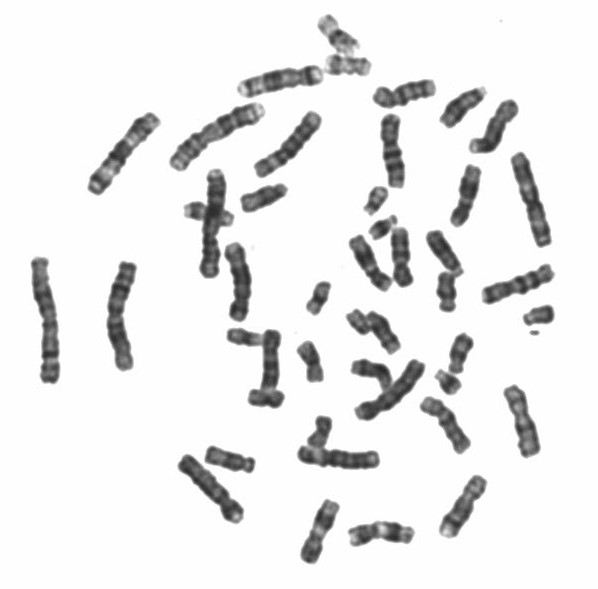chromosomes: (78, 104, 164, 205), (170, 94, 272, 173), (21, 248, 72, 393), (247, 102, 331, 186), (169, 448, 251, 533), (93, 253, 144, 379), (352, 353, 429, 424), (509, 148, 559, 255), (436, 466, 495, 546), (474, 258, 562, 311), (228, 58, 327, 104), (292, 494, 348, 570), (192, 163, 228, 280), (499, 380, 548, 463), (465, 96, 527, 160), (418, 393, 474, 460), (340, 227, 394, 296), (219, 236, 257, 330), (341, 516, 423, 556), (367, 72, 444, 114), (444, 161, 490, 230), (309, 8, 366, 62), (378, 110, 411, 194), (290, 444, 387, 472), (436, 82, 490, 131), (194, 441, 262, 478), (422, 223, 467, 278), (175, 198, 244, 233), (343, 352, 396, 394), (234, 178, 294, 215), (386, 220, 417, 291), (367, 304, 407, 356), (318, 52, 384, 83), (290, 337, 329, 387), (259, 324, 283, 394), (446, 328, 478, 379), (298, 275, 336, 317), (356, 175, 393, 218), (513, 301, 564, 332), (435, 264, 462, 321), (305, 408, 338, 454), (364, 209, 406, 242), (217, 325, 266, 353), (431, 363, 466, 400), (240, 388, 292, 411), (341, 308, 371, 341)
